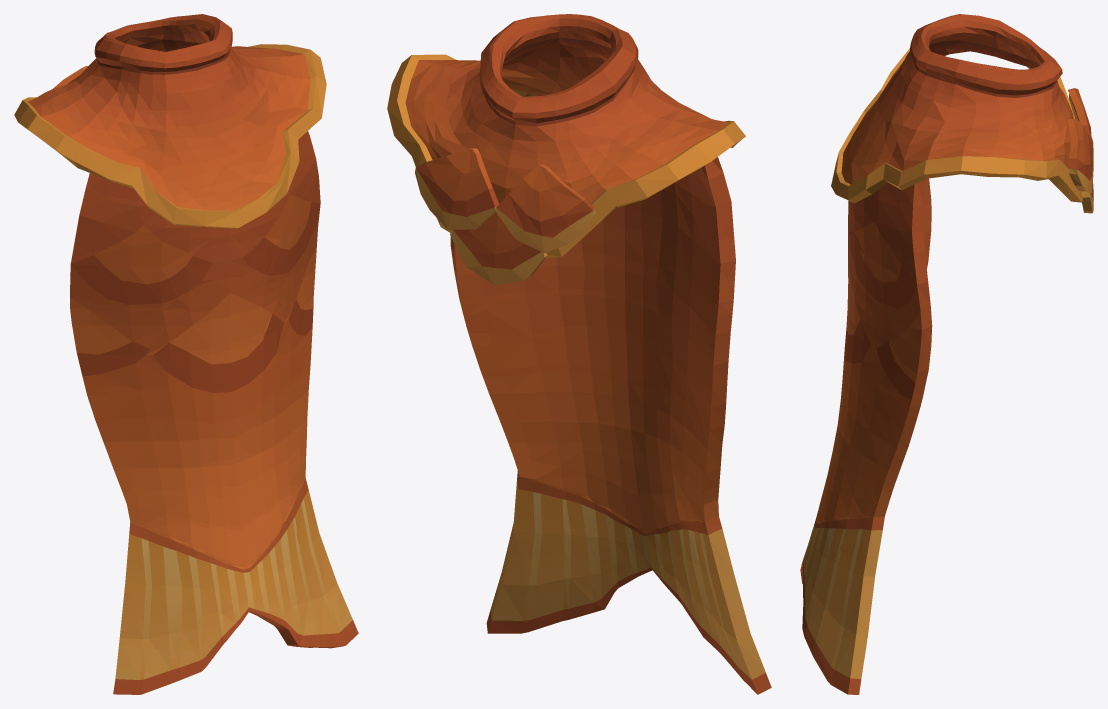
File: CharSkyKid_Wing_Fish_01.glb
3 renders of one model, left to right at view 1: azimuth 30°, elevation 25°; view 2: azimuth 150°, elevation 25°; view 3: azimuth 270°, elevation 25°, orthographic. The views are drawn at different scales.
Visible parts, largest first — view 1: CharSkyKid_Wing_Fish_01; view 2: CharSkyKid_Wing_Fish_01; view 3: CharSkyKid_Wing_Fish_01.
Part boxes in pixels (left/top/right/bottom): CharSkyKid_Wing_Fish_01: left=14, top=14, right=358, bottom=694; CharSkyKid_Wing_Fish_01: left=387, top=14, right=771, bottom=694; CharSkyKid_Wing_Fish_01: left=800, top=14, right=1093, bottom=694.
Size of the model in its own units: 4.54 by 8.82 by 3.91.
Materials: 1 (1 with a texture image).
